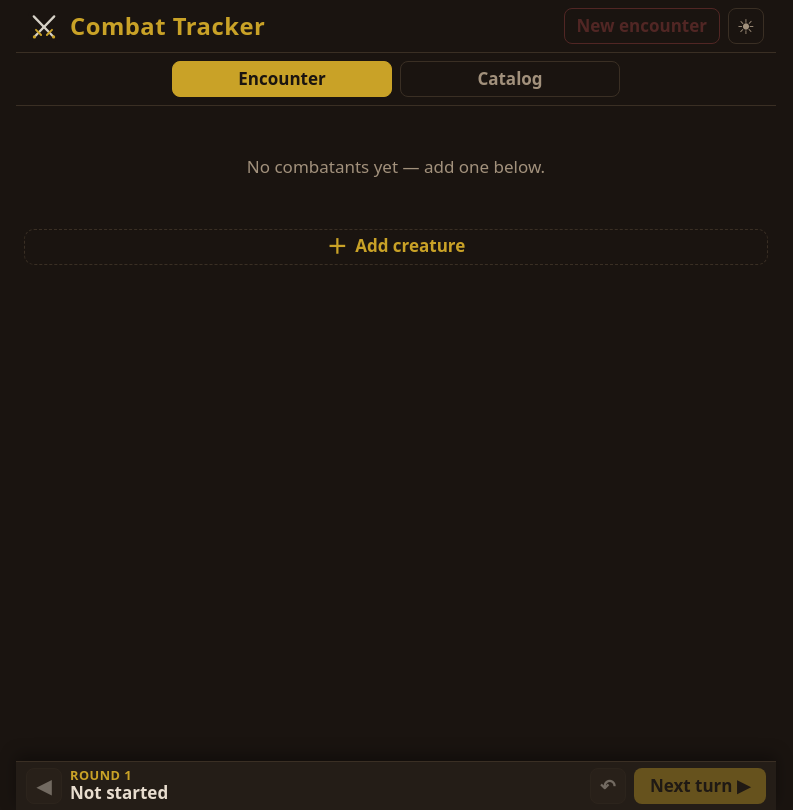
App › toggles a condition onto a combatant
The image size is (793, 810).
Click the button "＋ Add creature": (396, 247) [24,229,768,265]
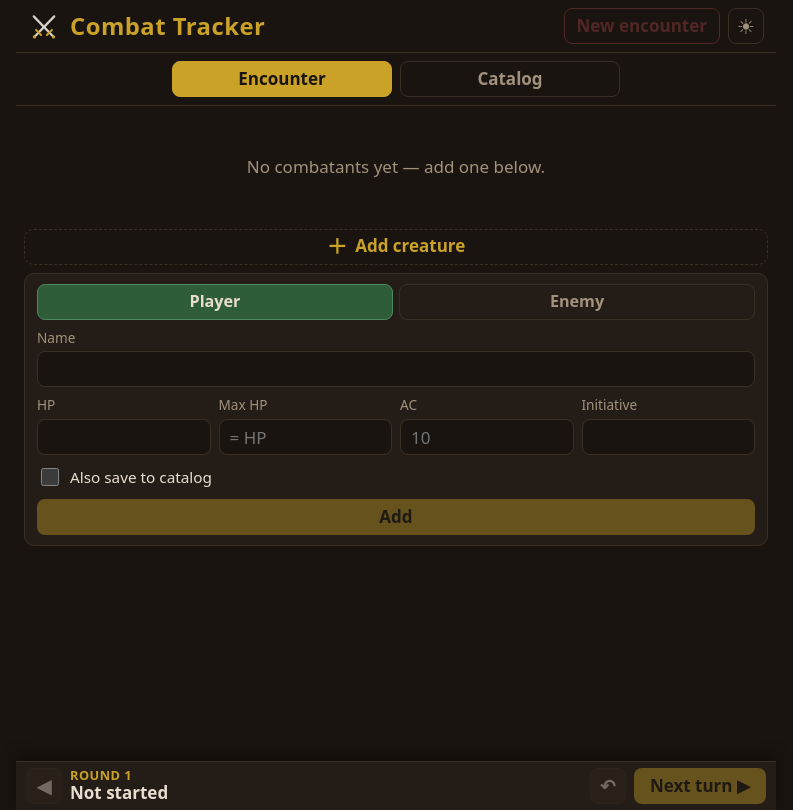
In the field labelled "Name": (396, 369) [37,351,755,387], type "Aragorn"
In the number field labelled "HP": (124, 437) [37,419,210,455], type "24"
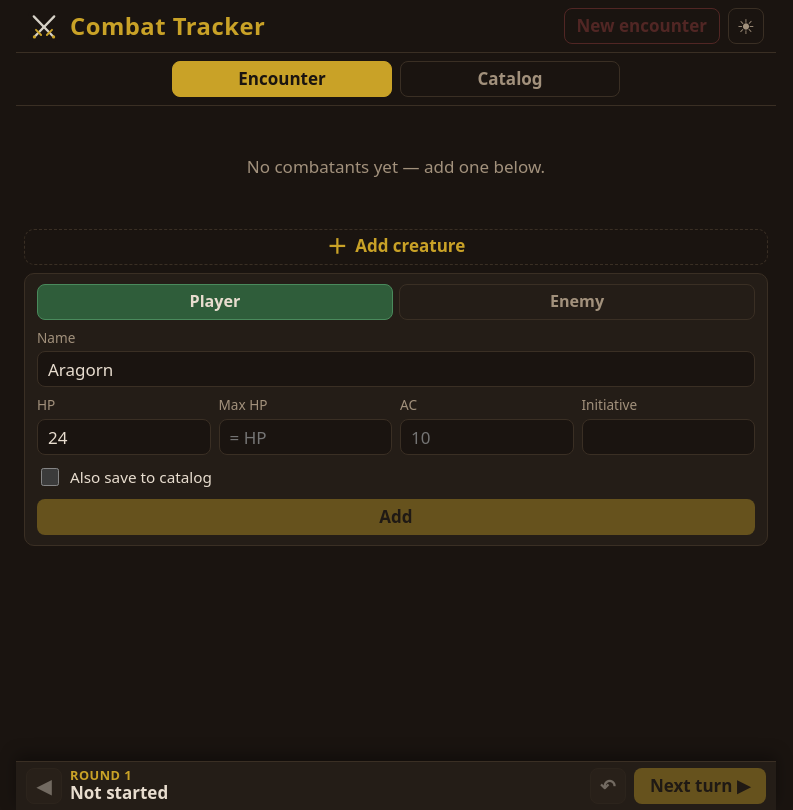
In the number field labelled "Initiative": (668, 437) [582,419,755,455], type "18"
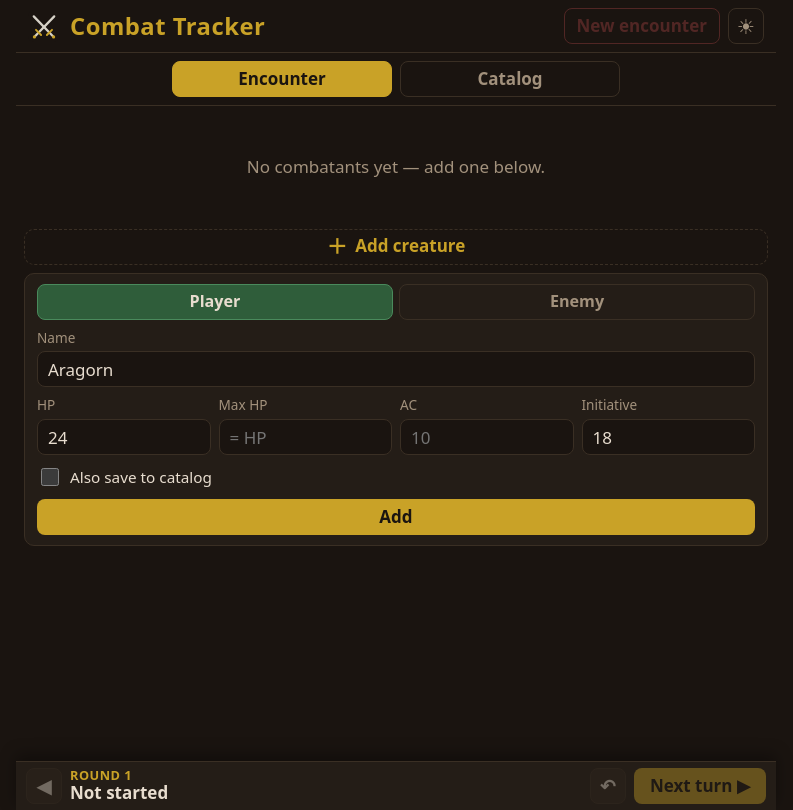
Click the button "Add": (396, 517) [37,499,755,535]
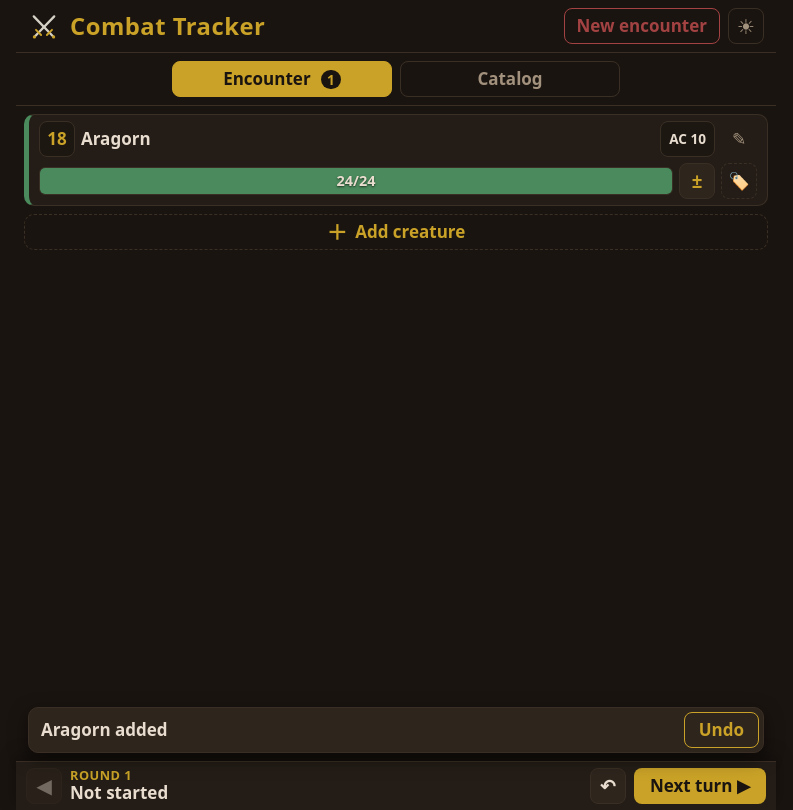
Click the button named "add condition": (739, 181) [721,163,757,199]
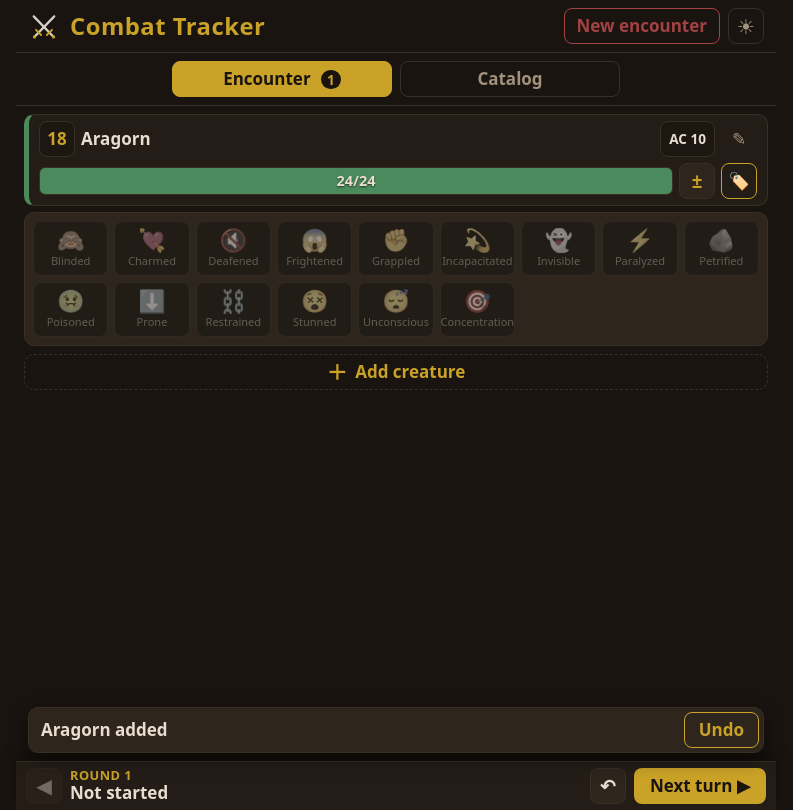
Click the button "🤢 Poisoned": (71, 310) [33,282,108,337]
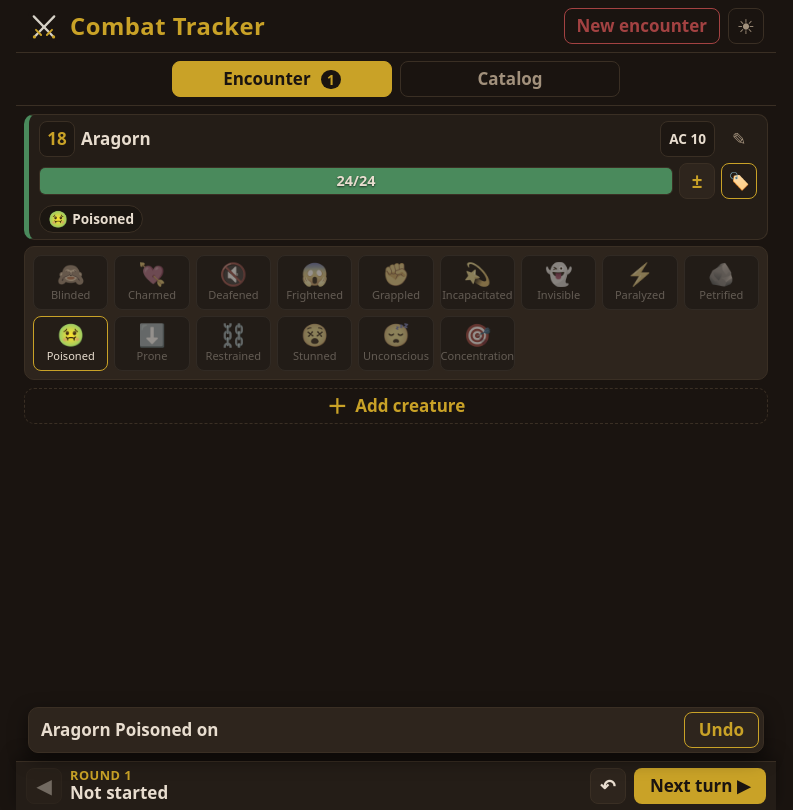
Now the text with class "cond-emoji" reads "🤢", box [48,208,68,230]
